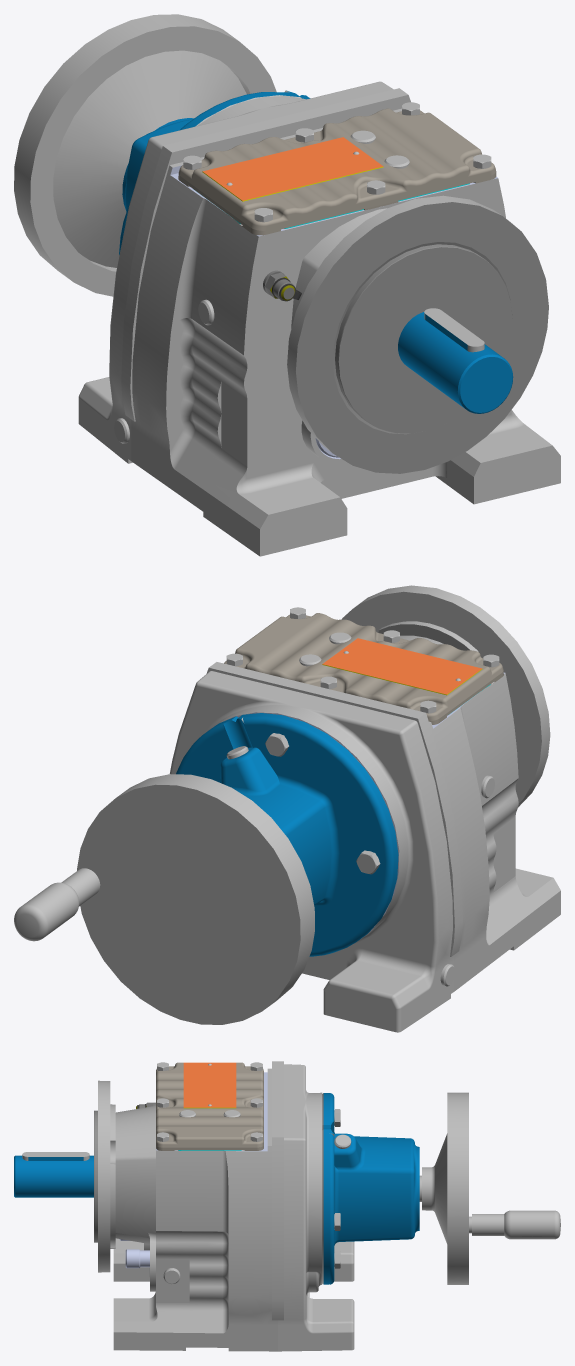
The model's file is Getriebe_2-stufig-full.fbx.
3 views of the same model, one above another, from view 1: azimuth 30°, elevation 25°; view 2: azimuth 150°, elevation 25°; view 3: azimuth 270°, elevation 25° (orthographic). The views are drawn at different scales.
Parts seen in each view (by area): view 1: Body1; view 2: Body1; view 3: Body1.
Boxes of the visible parts, x1=… form: Body1: x1=14, y1=14, x2=560, y2=556; Body1: x1=14, y1=585, x2=560, y2=1032; Body1: x1=14, y1=1061, x2=560, y2=1351.
Bounding box in the file's own units: 202 × 195 × 455.
